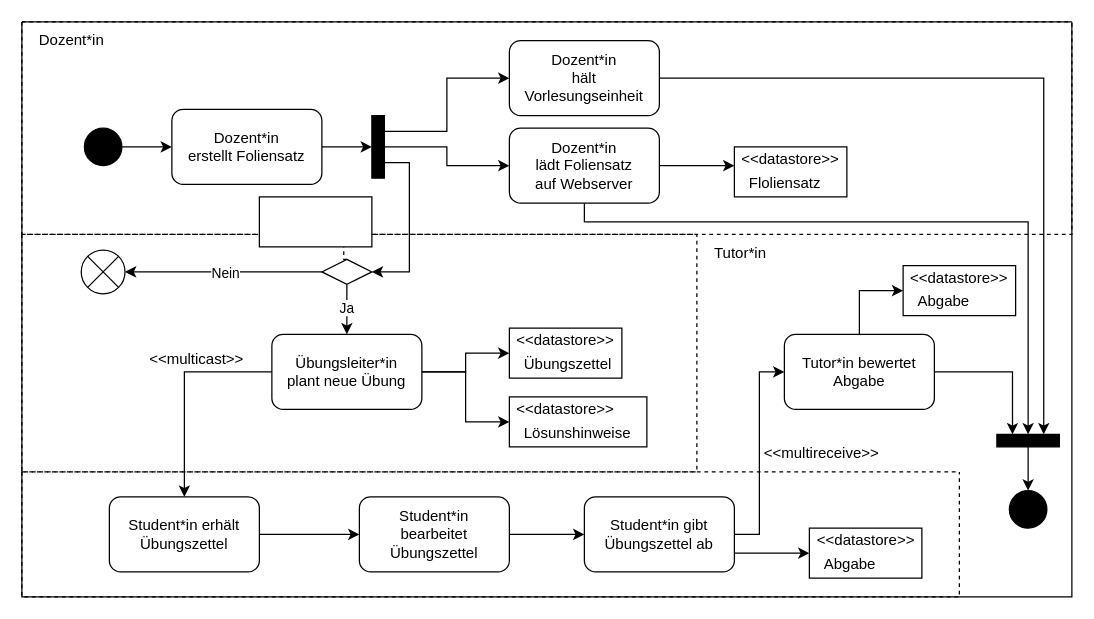
Some shapes in this 1094 by 619 pixel diagram are drawn without their labels. Here are the shapes that lost their labels. From the top down, the box of each, then its label:
(258, 196, 372, 247): Ist neuer Übungszettel nötig?
(21, 233, 697, 472): Übungsleiter*in
(21, 471, 959, 597): Student*in
